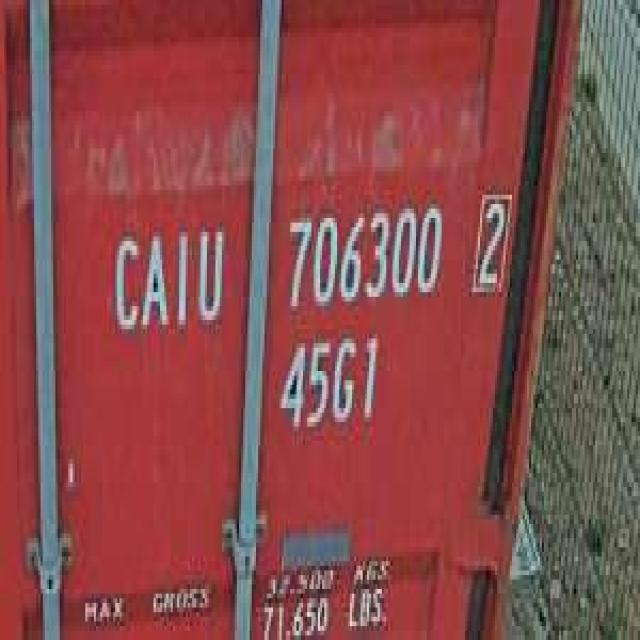dv: (469, 176, 514, 306)
owner: (105, 208, 228, 338)
serial: (279, 190, 446, 316)
size: (275, 329, 382, 441)
